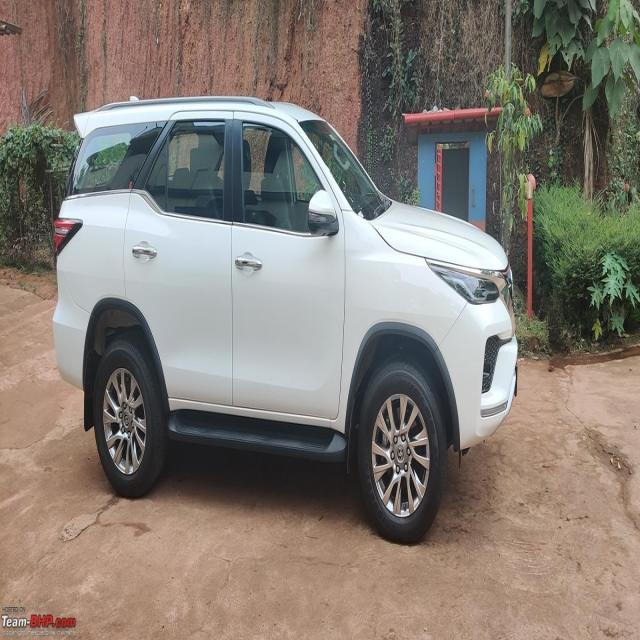light_vehicle: (52, 93, 519, 545)
